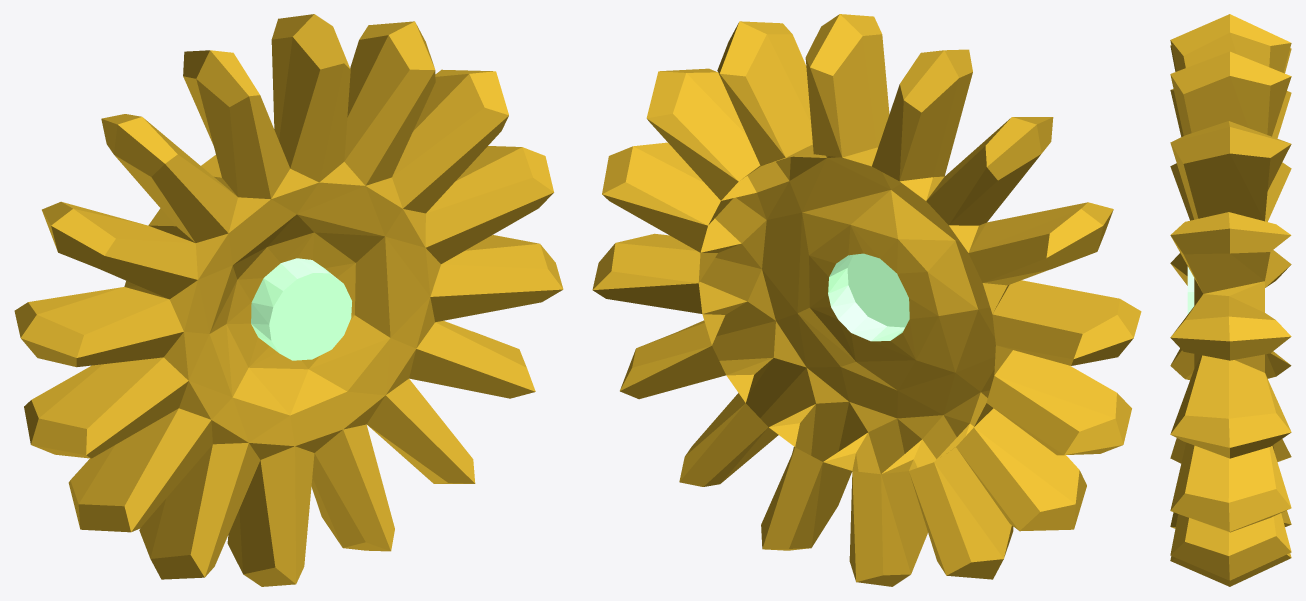
File: Turbine.fbx
3 renders of one model, left to right at view 1: azimuth 30°, elevation 25°; view 2: azimuth 150°, elevation 25°; view 3: azimuth 270°, elevation 25°, orthographic. The views are drawn at different scales.
Visible parts, largest first — view 1: Circle.001; view 2: Circle.001; view 3: Circle.001.
Boxes of the visible parts, <box> form: Circle.001: <box>14,14,563,586</box>; Circle.001: <box>592,14,1141,586</box>; Circle.001: <box>1170,14,1291,586</box>.
Size of the model in its own units: 444 by 444 by 93.58.
